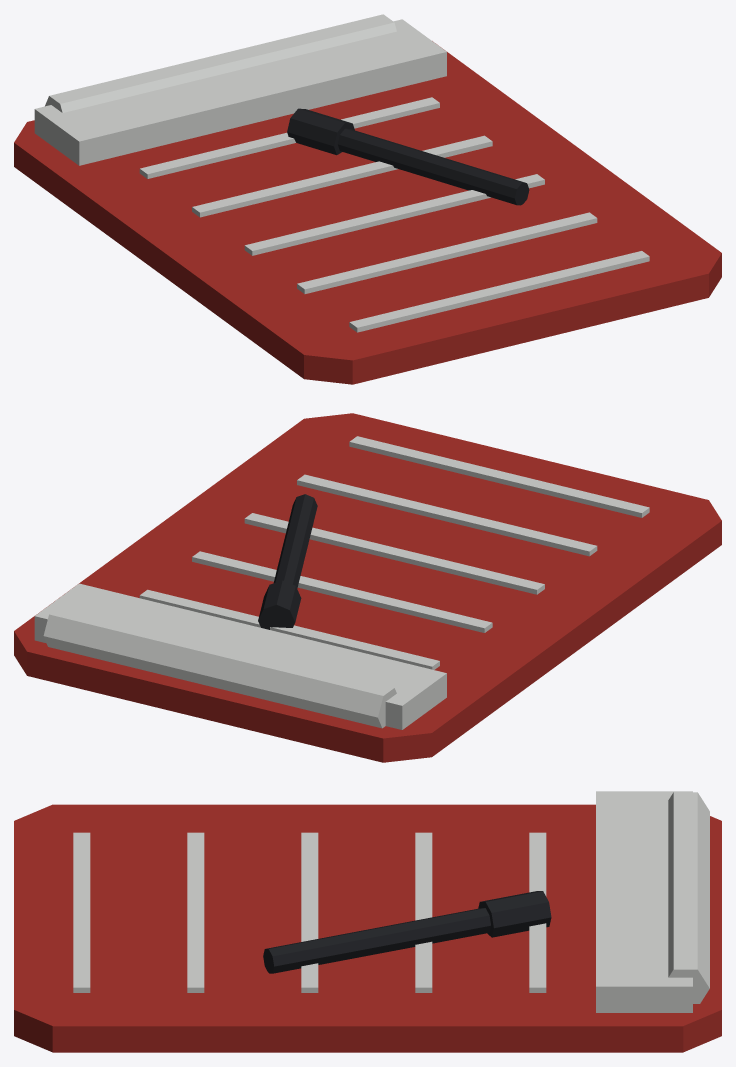
File: order-pad-bb3980.glb
The picture shows the model from 3 angles, top to bottom: view 1: azimuth 30°, elevation 25°; view 2: azimuth 150°, elevation 25°; view 3: azimuth 270°, elevation 25°; orthographic projection. The views are drawn at different scales.
Bounding box in the file's own units: 0.1081 × 0.0138 × 0.146.
